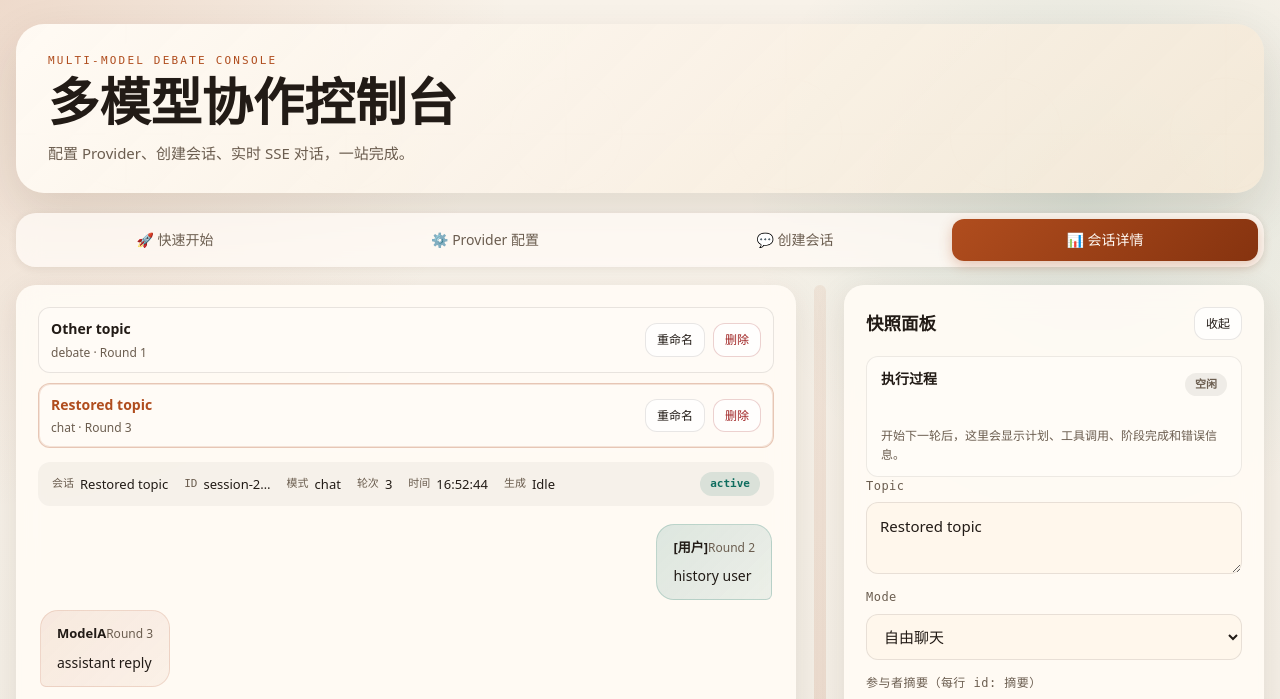
Test case: App session persistence › restores the latest valid session, history, and draft on app boot
The width and height of the screenshot is (1280, 699).
expect the navigation bar named "Sessions" shows "Restored topic": met, box [51,394,635,437]
Click the button "Other topic debate · Round 1" at point(91, 329), box [51,318,635,362]
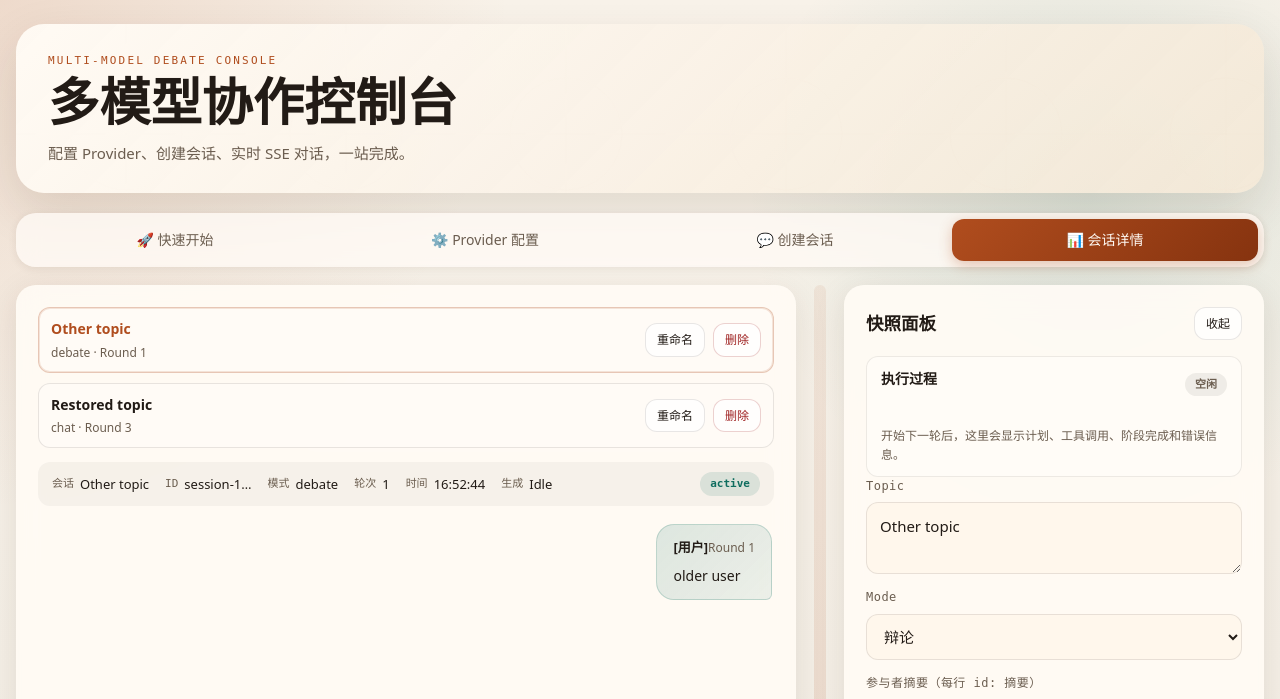
expect the text "older user" is shown: met, box [674,566,740,585]
